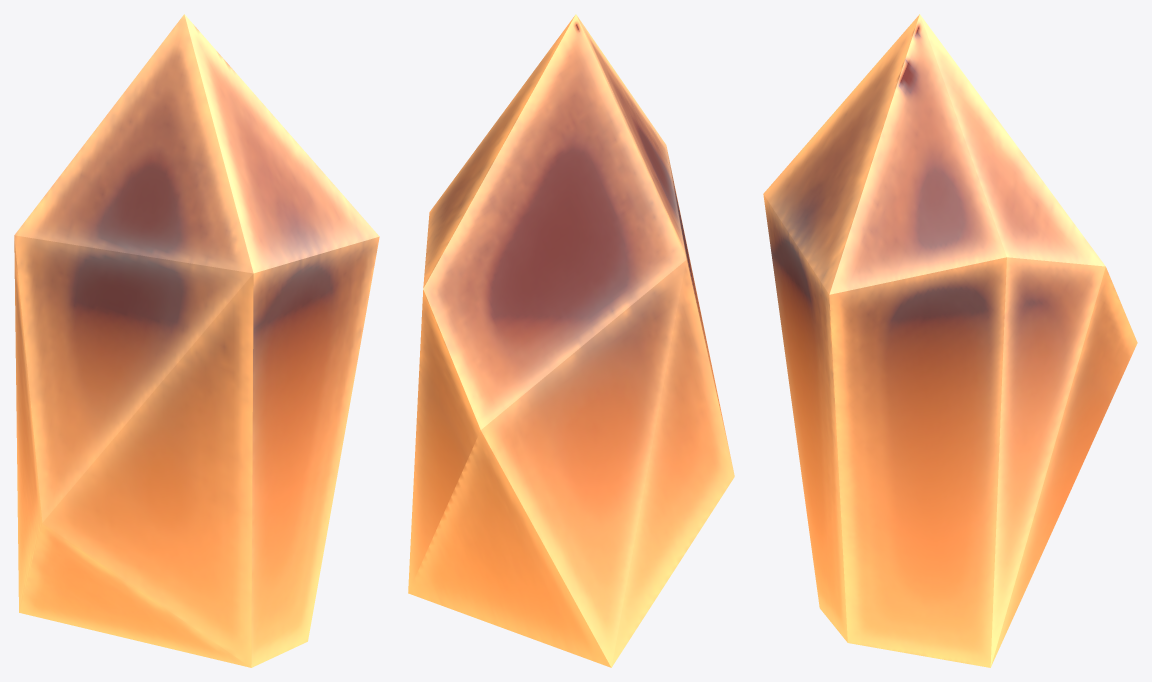
The model's file is crystal_piece_006.fbx.
The picture shows the model from 3 angles, left to right: view 1: azimuth 30°, elevation 25°; view 2: azimuth 150°, elevation 25°; view 3: azimuth 270°, elevation 25°; orthographic projection. The views are drawn at different scales.
Visible parts, largest first — view 1: crystal_piece_006; view 2: crystal_piece_006; view 3: crystal_piece_006.
Part boxes in pixels (x1=…): crystal_piece_006: x1=14, y1=14, x2=379, y2=667; crystal_piece_006: x1=408, y1=14, x2=734, y2=667; crystal_piece_006: x1=763, y1=14, x2=1137, y2=667.
Bounding box in the file's own units: 0.4234 × 0.8297 × 0.4776.
